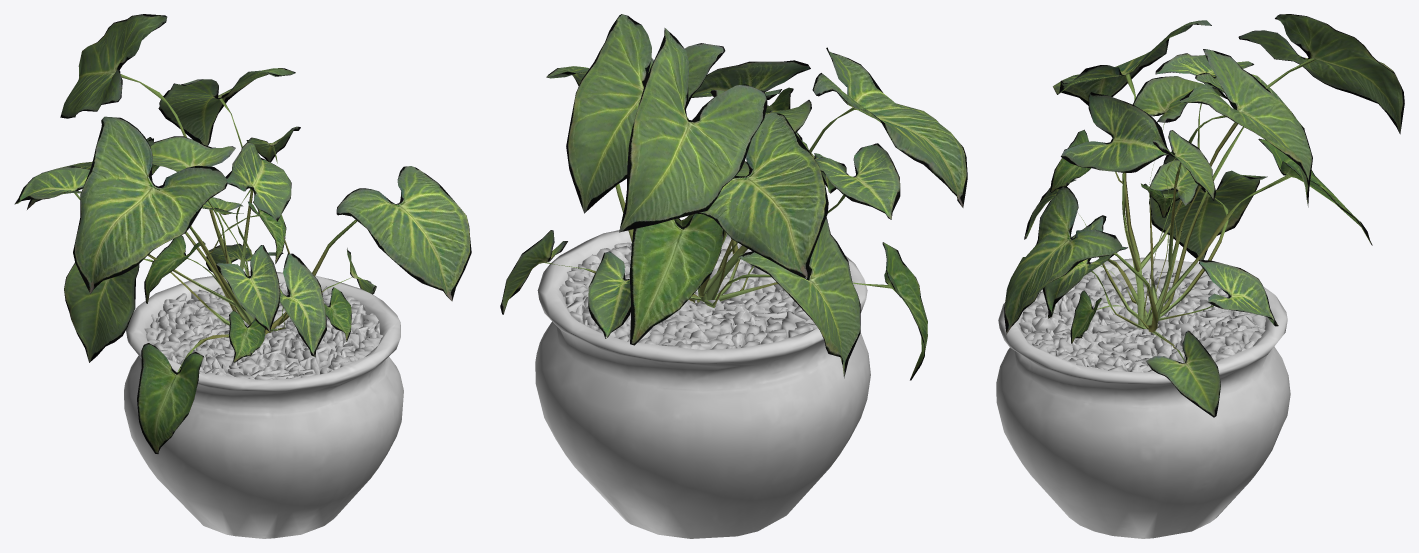
File: plant-small.glb
3 views of the same model, side by side, from view 1: azimuth 30°, elevation 25°; view 2: azimuth 150°, elevation 25°; view 3: azimuth 270°, elevation 25° (orthographic). The views are drawn at different scales.
Visible parts, largest first — view 1: potted_plant_02_leaves, potted_plant_02_pot, potted_plant_02_dirt; view 2: potted_plant_02_leaves, potted_plant_02_pot, potted_plant_02_dirt; view 3: potted_plant_02_leaves, potted_plant_02_pot, potted_plant_02_dirt.
Boxes of the visible parts, box(x1,y1,x2,y2) form: potted_plant_02_leaves: box(14, 14, 471, 453); potted_plant_02_pot: box(124, 271, 403, 538); potted_plant_02_dirt: box(144, 282, 382, 380); potted_plant_02_leaves: box(500, 14, 967, 380); potted_plant_02_pot: box(535, 220, 870, 538); potted_plant_02_dirt: box(559, 233, 817, 349); potted_plant_02_leaves: box(1004, 14, 1404, 417); potted_plant_02_pot: box(996, 257, 1290, 538); potted_plant_02_dirt: box(1019, 267, 1265, 372).
Size of the model in its own units: 0.7009 by 0.8412 by 0.6561.
2 materials, 2 textured.
